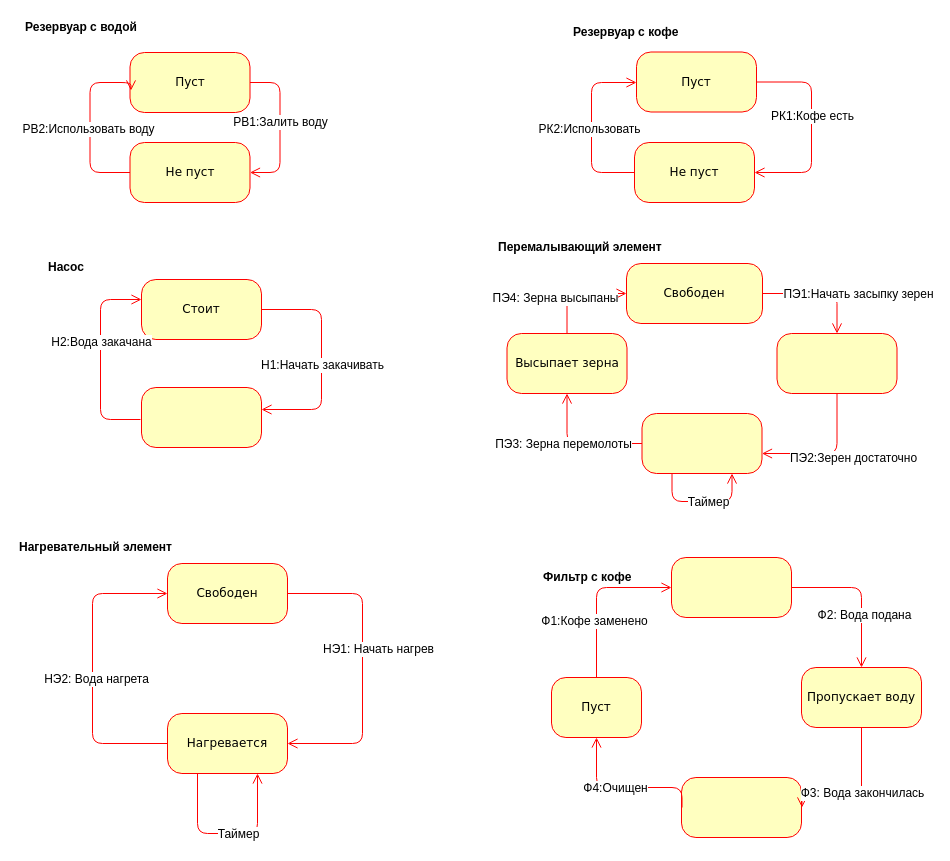
Image size: 950x861. Some labels were removed from this diagram. The centre of each missing label's shape, as x and y in pixels:
Есть кофе: (x=731, y=587)
Засыпаются зерна: (x=836, y=363)
Зерна перемалываются: (x=701, y=443)
Качает воду: (x=201, y=417)
Нуждается в очистке: (x=741, y=807)
